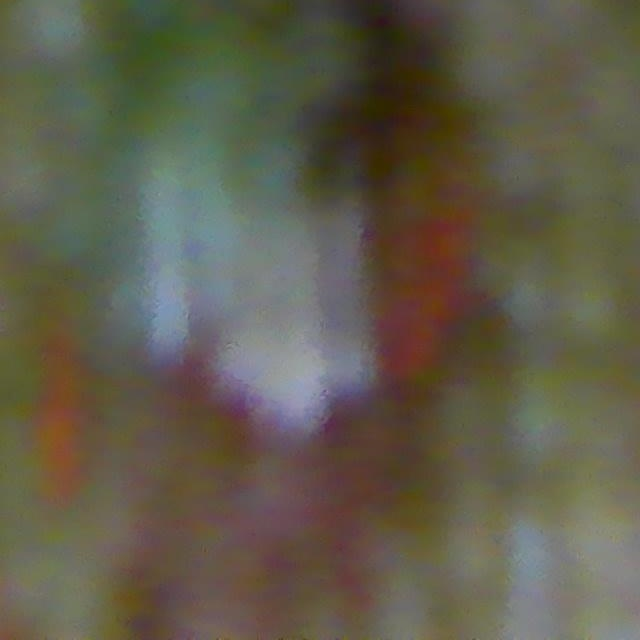SeaGrape: (18, 0, 104, 64)
